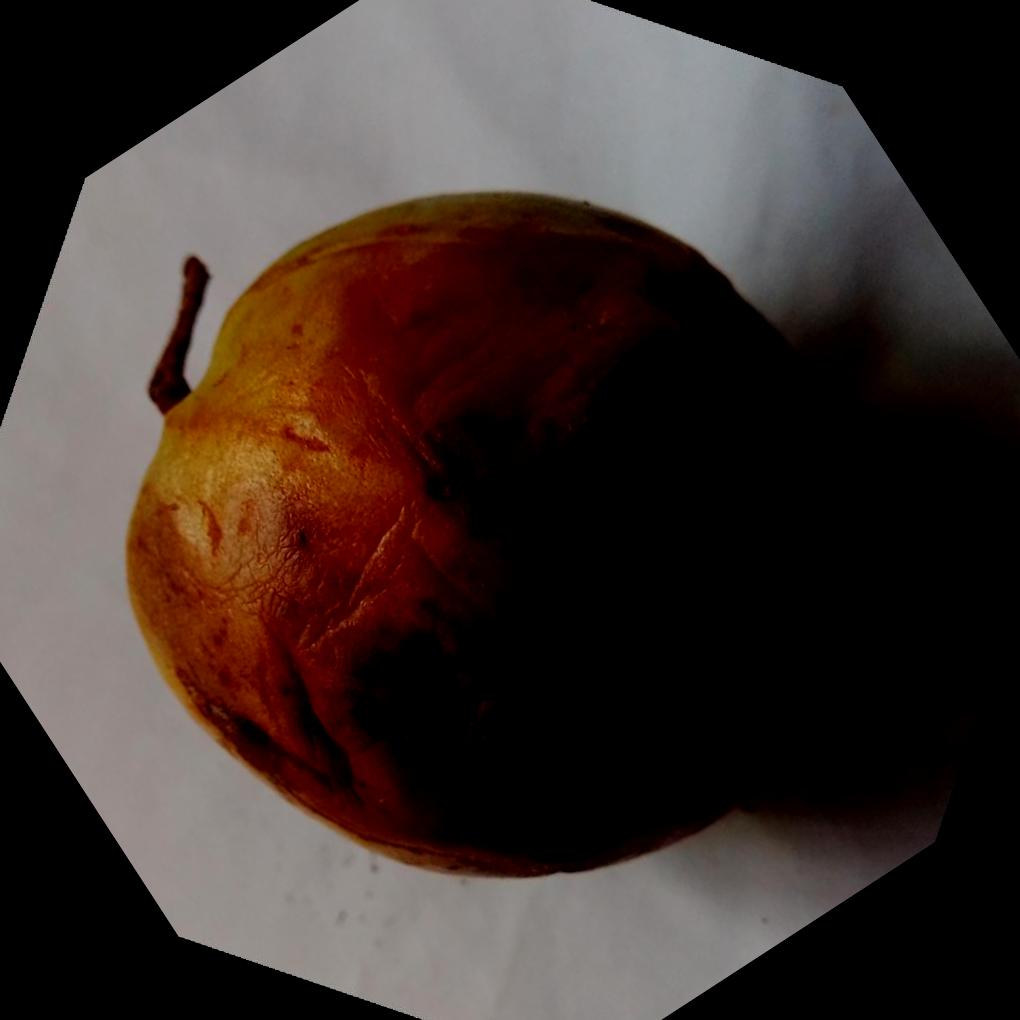FreshOrange: (123, 192, 866, 883)
